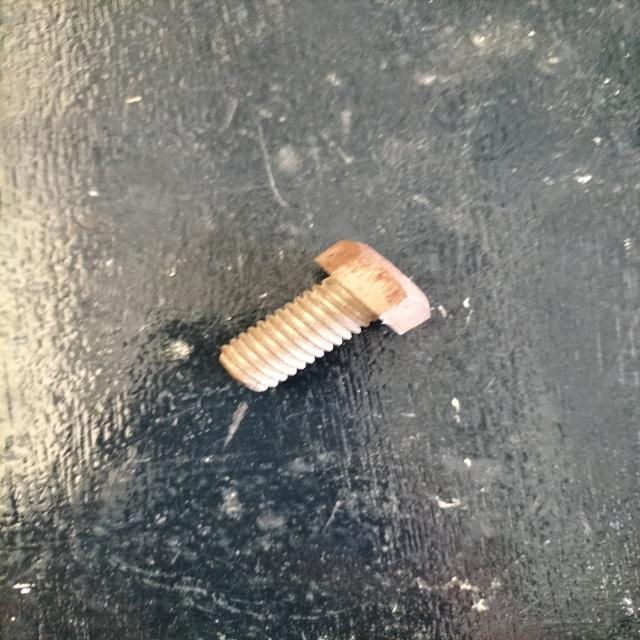bolt: (220, 239, 428, 392)
